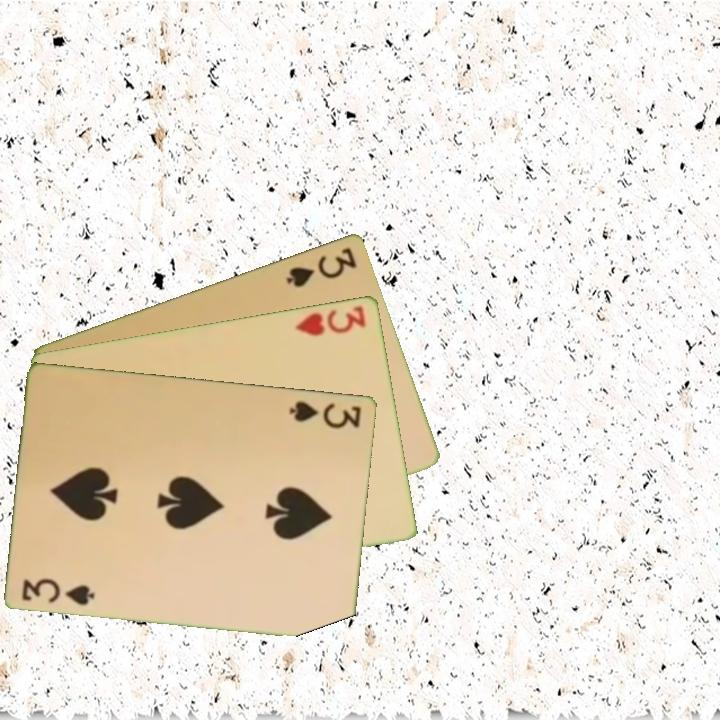3h: (292, 301, 369, 339)
3s: (282, 243, 360, 290), (286, 396, 364, 431), (18, 574, 98, 608)
